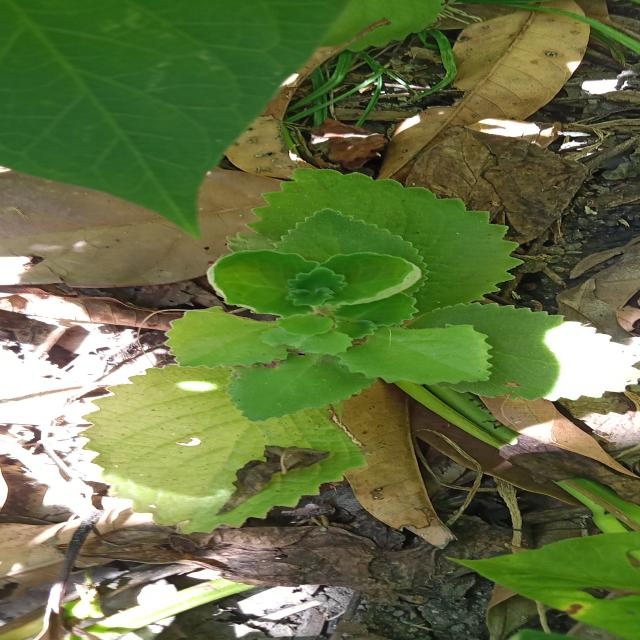Oregano: (148, 162, 640, 430)
